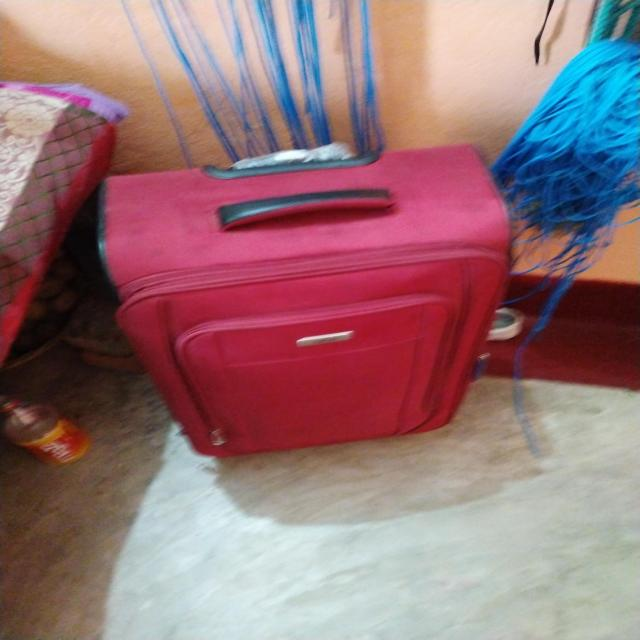luggage: (92, 143, 526, 460)
